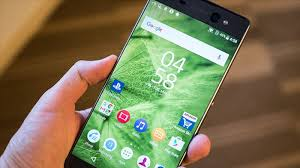sony: (64, 1, 254, 168)
